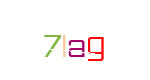1: (34, 0, 114, 80)
7: (12, 0, 92, 80)
A: (43, 0, 123, 80)
G: (55, 0, 135, 80)
